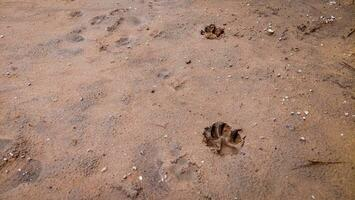chien: (201, 121, 247, 161), (198, 23, 227, 41)
